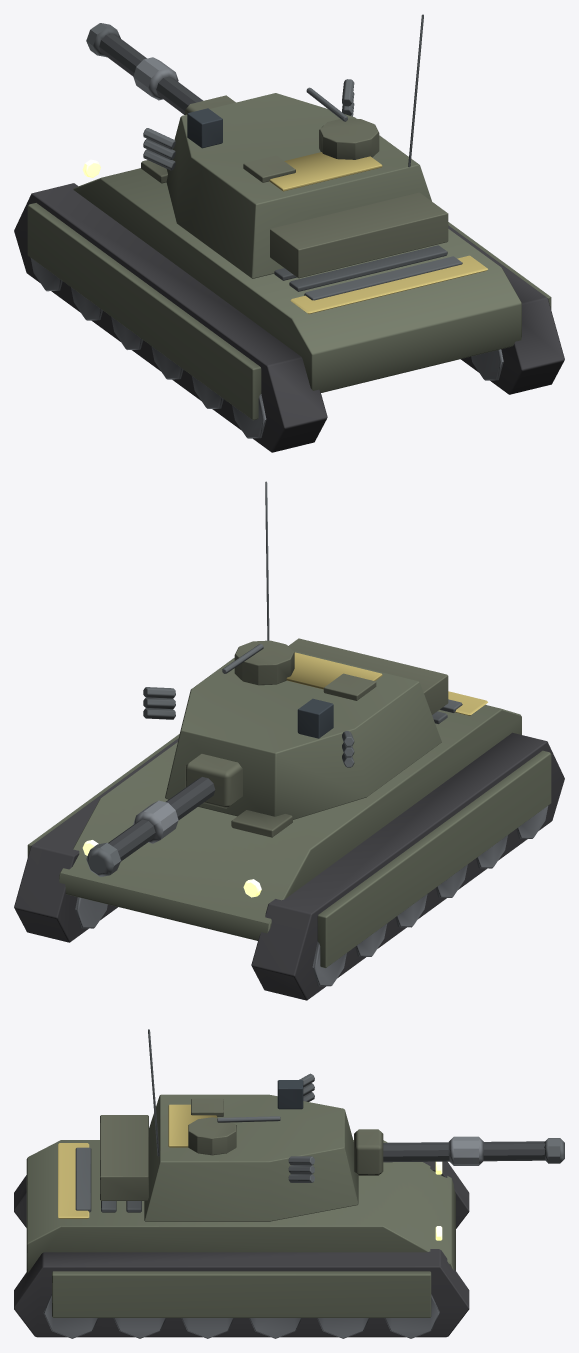
File: main_battle_tank.glb
3 views of the same model, one above another, from view 1: azimuth 30°, elevation 25°; view 2: azimuth 150°, elevation 25°; view 3: azimuth 270°, elevation 25° (orthographic). The views are drawn at different scales.
Visible parts, largest first — view 1: Body, Turret, Barrel; view 2: Body, Turret, Barrel; view 3: Body, Turret, Barrel.
Part boxes in pixels (x1,y1,x2,y2): Body: (14, 159, 564, 452); Turret: (143, 14, 448, 278); Barrel: (86, 23, 235, 114); Body: (14, 691, 564, 1000); Turret: (143, 481, 448, 819); Barrel: (86, 754, 242, 876); Body: (14, 1140, 469, 1338); Turret: (100, 1029, 358, 1221); Barrel: (354, 1129, 564, 1175).
Bounding box in the file's own units: 2.98 × 3.2 × 5.64.
